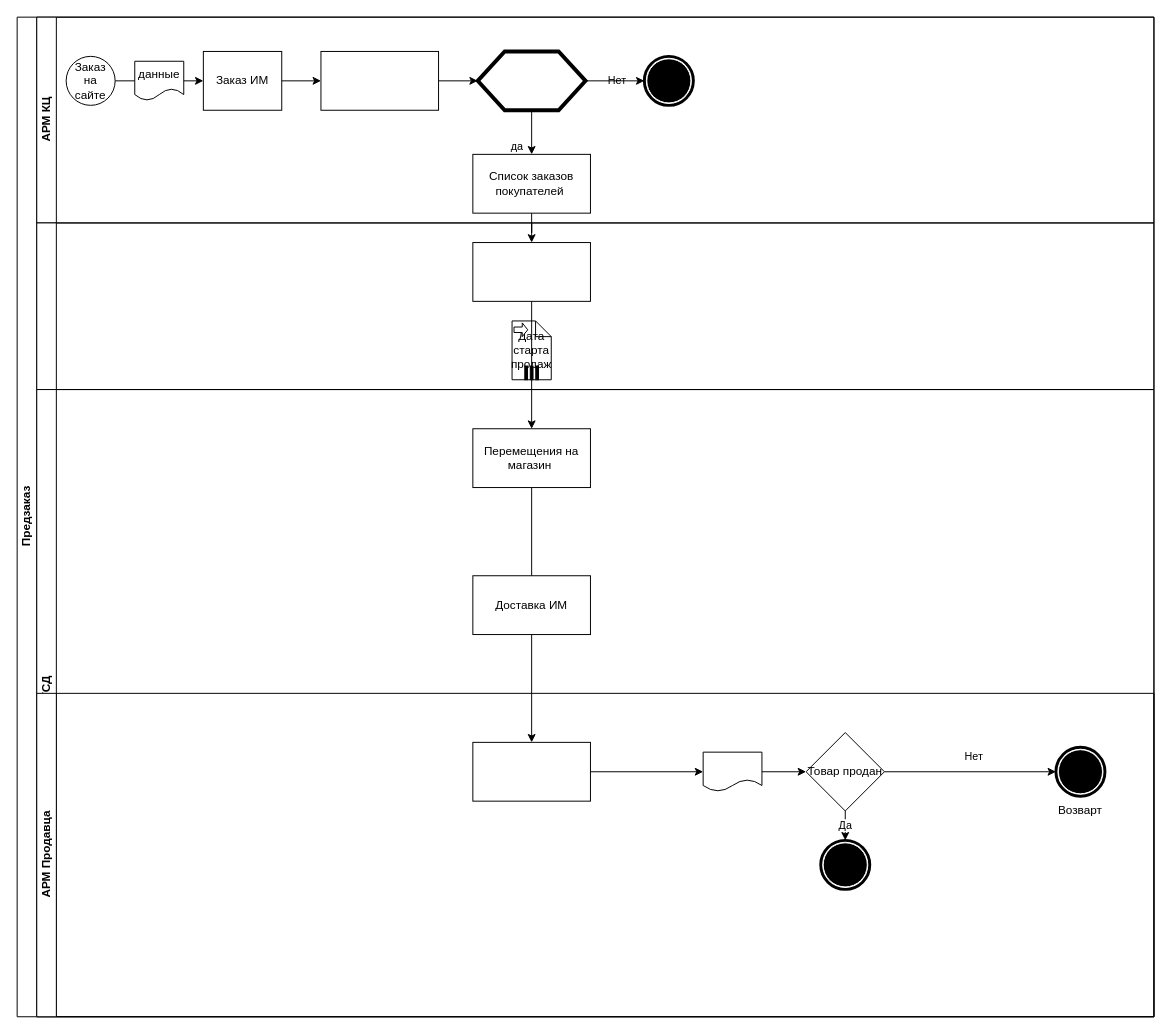
The diagram is 1171 pixels wide and 1034 high, and some of its shapes have lost their labels. Each missing label, with the box of its shape:
АРМ Снабженца: (36, 222, 1154, 390)
Заказ подтвержден ?: (475, 49, 587, 112)
Поступление товара: (472, 741, 590, 801)
Своз на ЦС: (472, 242, 590, 301)
событие: (702, 751, 762, 791)
Форма работы с поекупателем: (320, 50, 439, 110)
